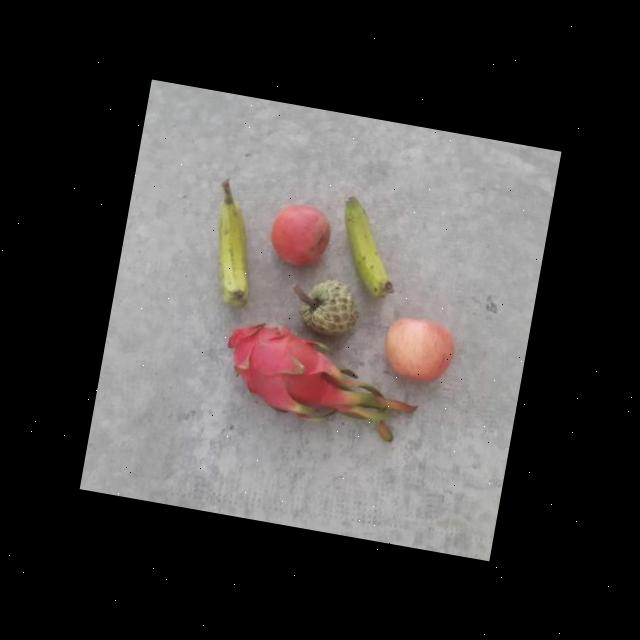Sakya fruit: (292, 270, 363, 344)
apple: (378, 309, 460, 386), (264, 198, 340, 272)
banana: (326, 194, 412, 302), (198, 200, 264, 307)
pitaya: (215, 317, 348, 423)
